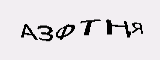А: (19, 23, 38, 41)
З: (37, 24, 54, 43)
Н: (105, 18, 131, 39)
Т: (79, 17, 101, 37)
Ф: (55, 23, 75, 42)
Я: (130, 21, 144, 35)
